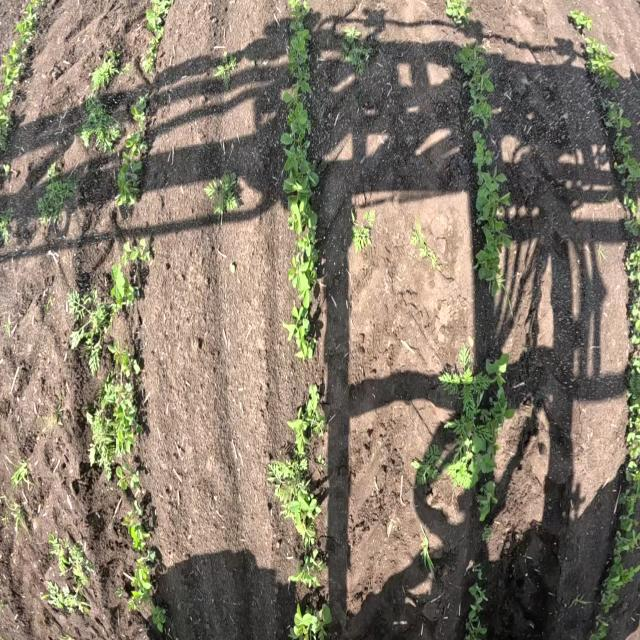plants: (441, 344, 512, 531), (84, 384, 146, 474), (270, 456, 324, 542), (454, 39, 504, 128), (67, 287, 109, 376), (282, 144, 322, 229), (286, 386, 332, 456), (284, 237, 328, 307), (405, 215, 449, 276), (576, 36, 623, 93), (473, 214, 509, 288), (203, 164, 245, 227), (282, 3, 314, 83), (285, 590, 336, 640), (275, 82, 320, 138), (348, 192, 383, 264), (459, 575, 495, 640), (79, 93, 118, 152), (338, 22, 376, 80), (116, 153, 153, 212), (35, 168, 76, 220), (40, 576, 90, 618), (286, 306, 320, 366), (408, 432, 442, 492), (605, 528, 640, 584), (412, 523, 444, 583), (104, 266, 151, 306), (47, 531, 91, 573), (120, 104, 162, 148), (12, 0, 48, 49), (472, 172, 514, 214), (291, 543, 331, 587), (87, 48, 126, 90), (612, 462, 640, 520), (128, 557, 159, 608), (2, 50, 33, 100), (611, 136, 640, 187), (594, 588, 624, 637), (592, 95, 630, 131), (1, 504, 42, 536), (616, 190, 640, 243), (617, 410, 640, 465), (114, 234, 152, 267), (112, 338, 141, 381), (468, 127, 497, 170), (621, 291, 640, 356), (8, 458, 39, 497), (117, 477, 150, 513), (213, 49, 240, 93), (618, 354, 640, 404), (121, 515, 151, 551), (139, 28, 164, 70), (619, 240, 640, 286), (0, 202, 17, 257), (443, 0, 474, 29), (566, 6, 594, 35), (150, 607, 176, 638), (142, 0, 177, 22), (0, 103, 13, 153), (566, 590, 589, 613), (0, 160, 17, 183)
